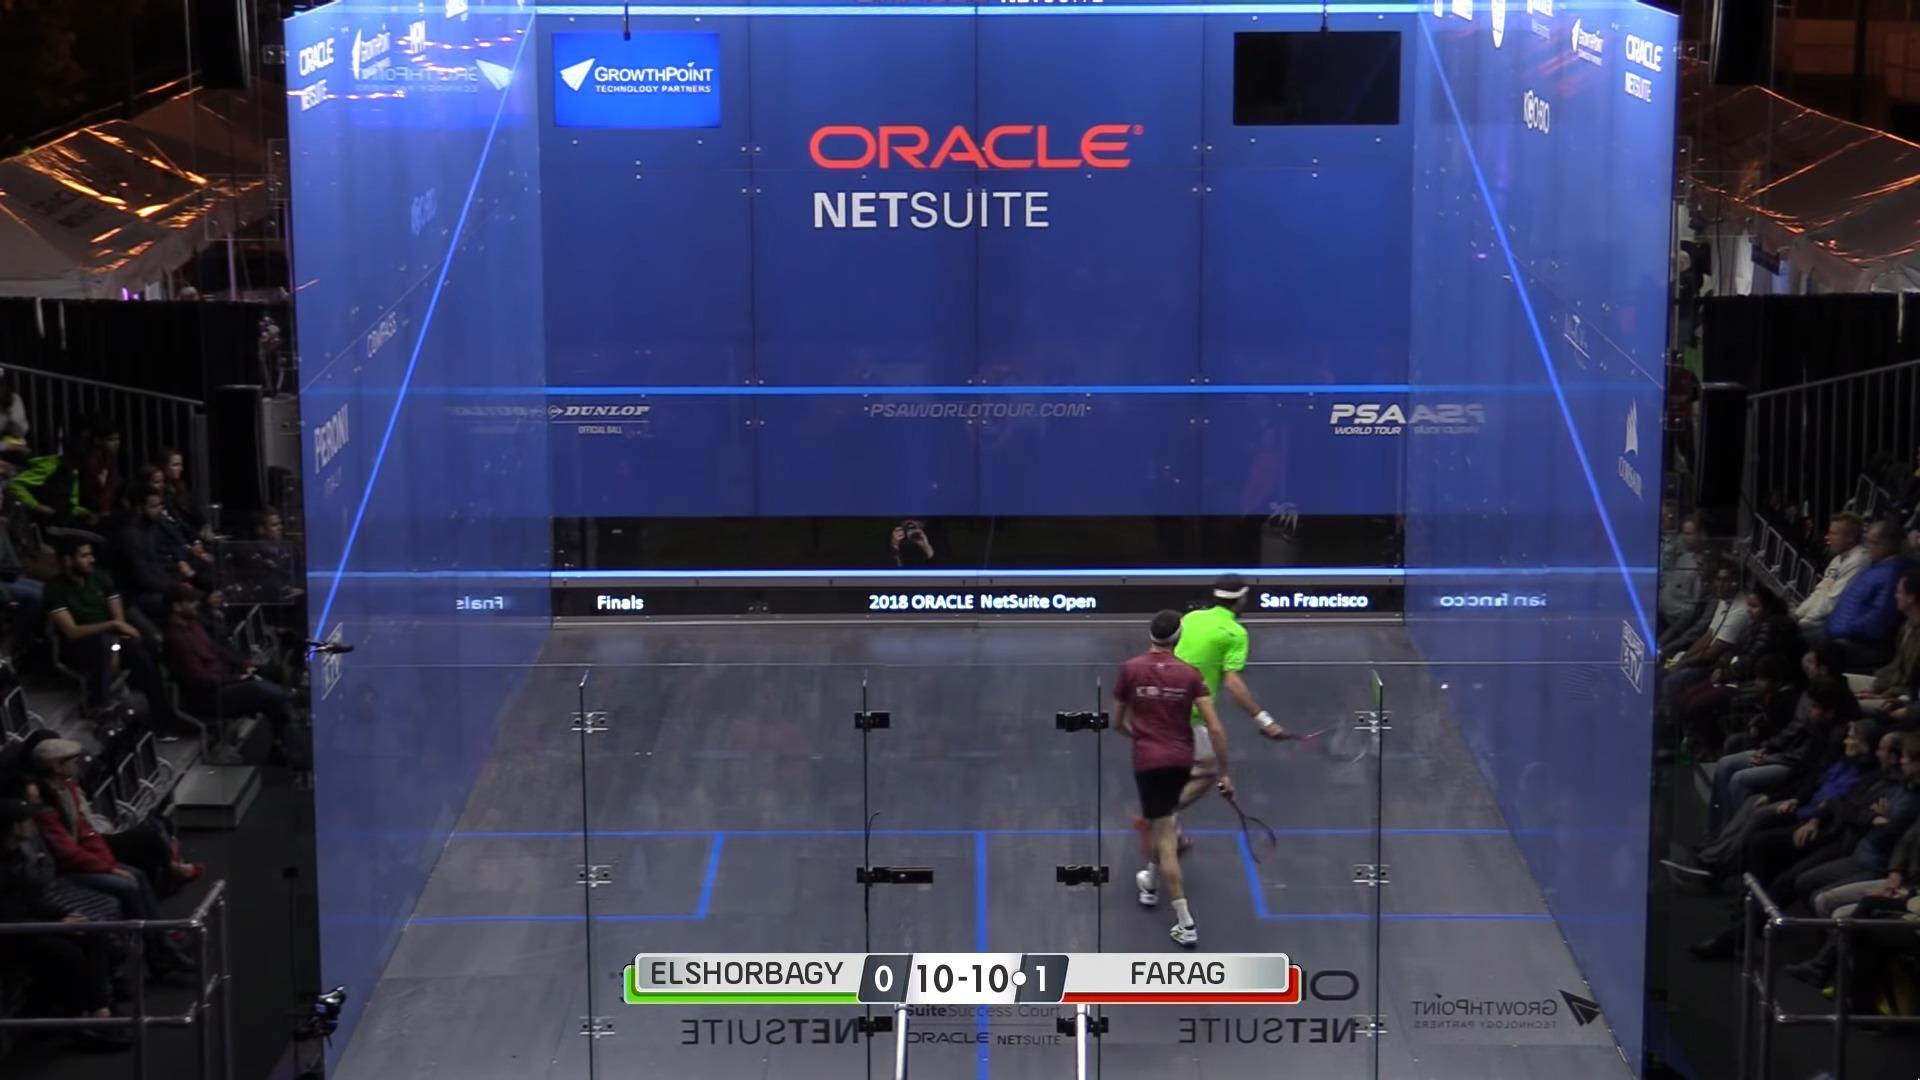Squash-Ball: (1431, 680, 1456, 707)
